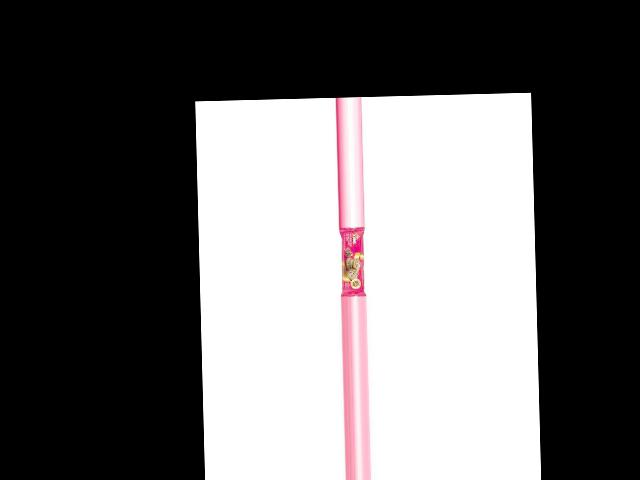chocolate: (336, 226, 365, 295)
